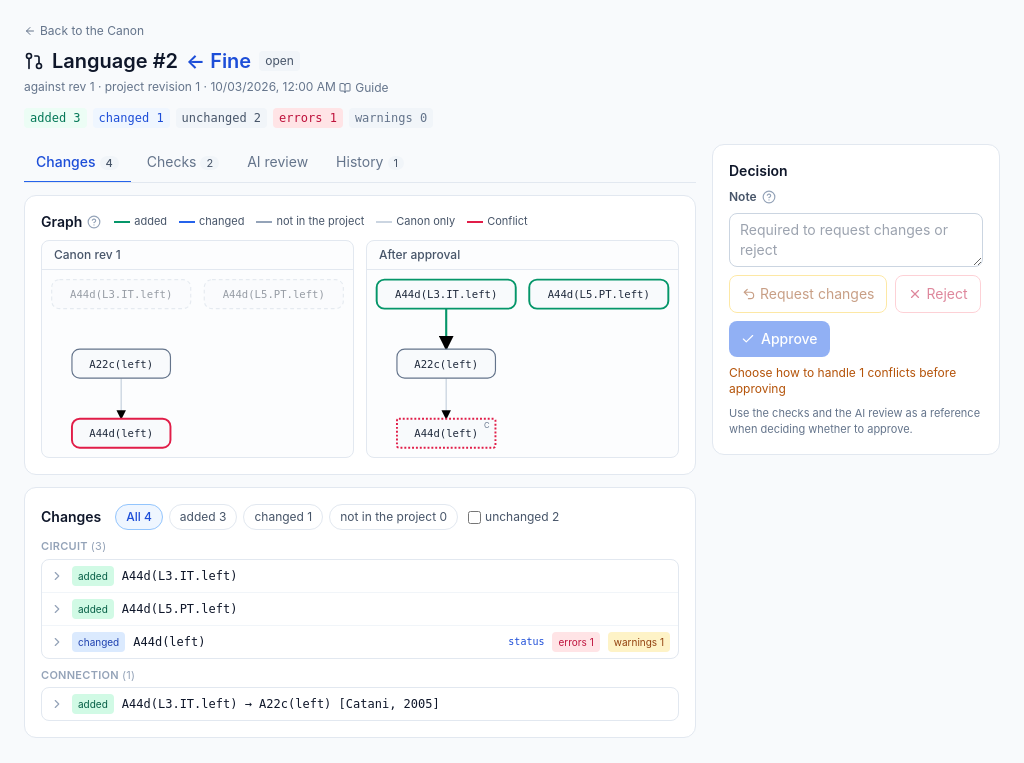
Scenario: Canon PR review page › lists the system checks by group with their Master codes
The image size is (1024, 763).
Click the tab with test id "tab-checks".
click(183, 163)  # box [135,144,231,183]
(page scrolled)
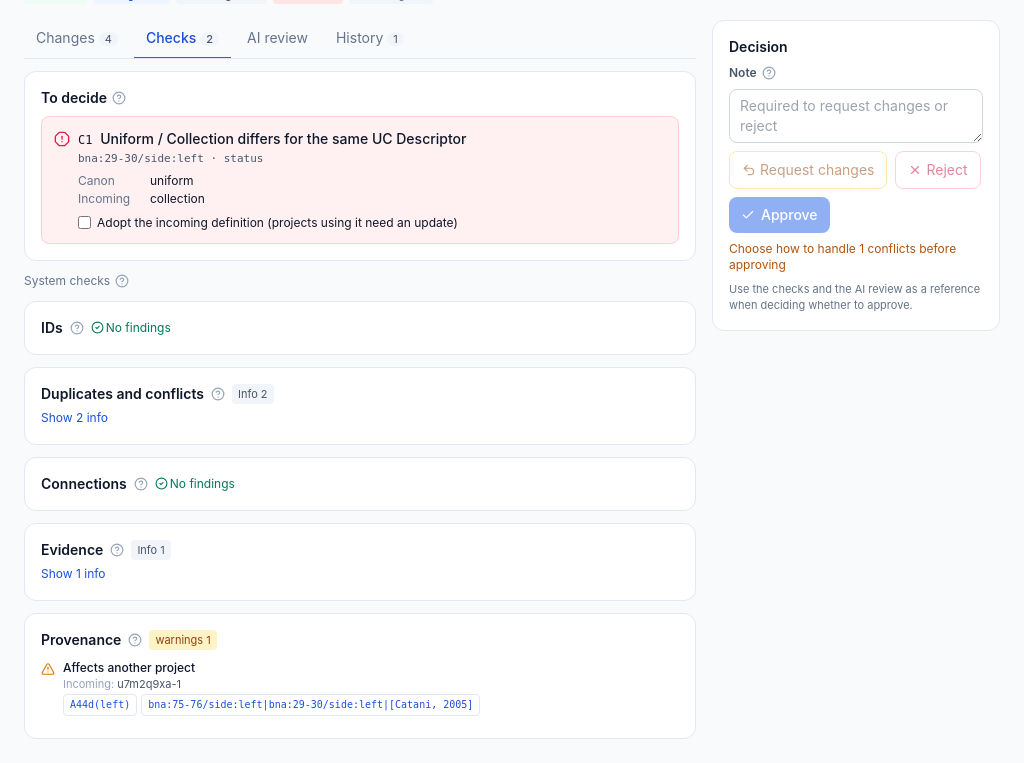
Expected: the element with test id "checks-panel" shows "To decide", [41,89,107,106]
Expected: the element with test id "check-group-provenance" shows "Affects another project", [63,660,195,675]
